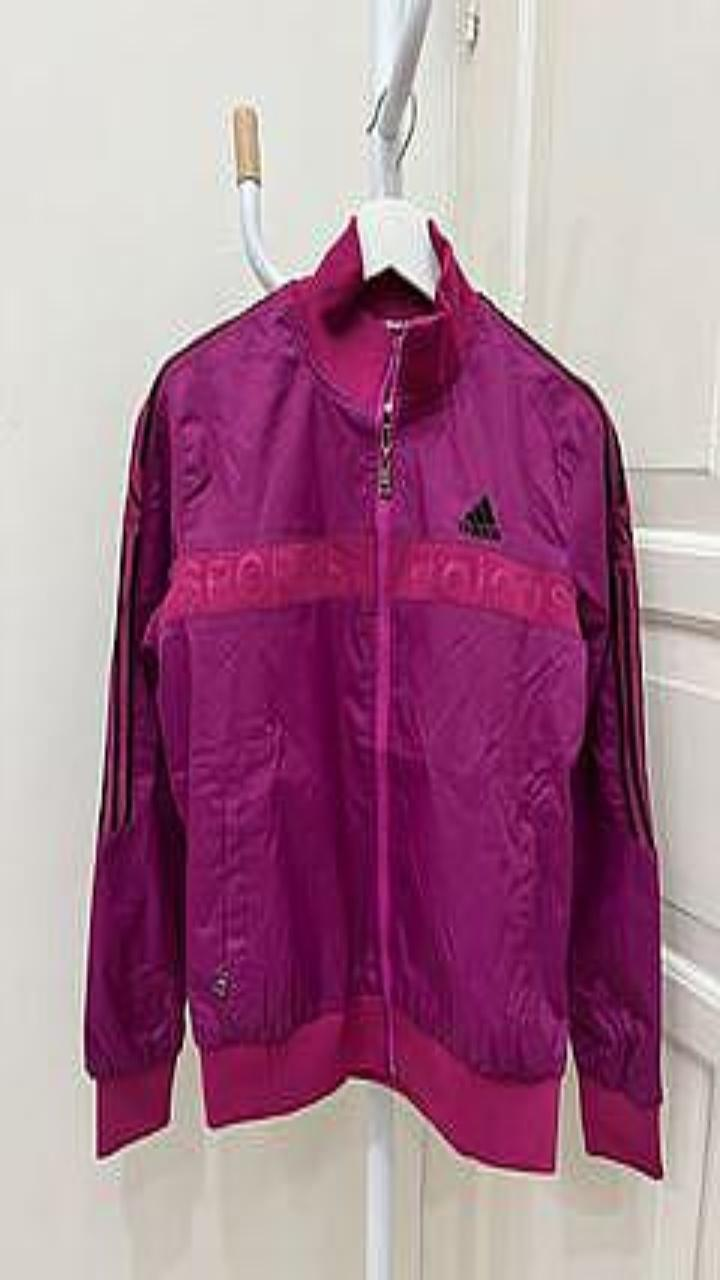Sports_Jacket: (84, 215, 662, 1177)
